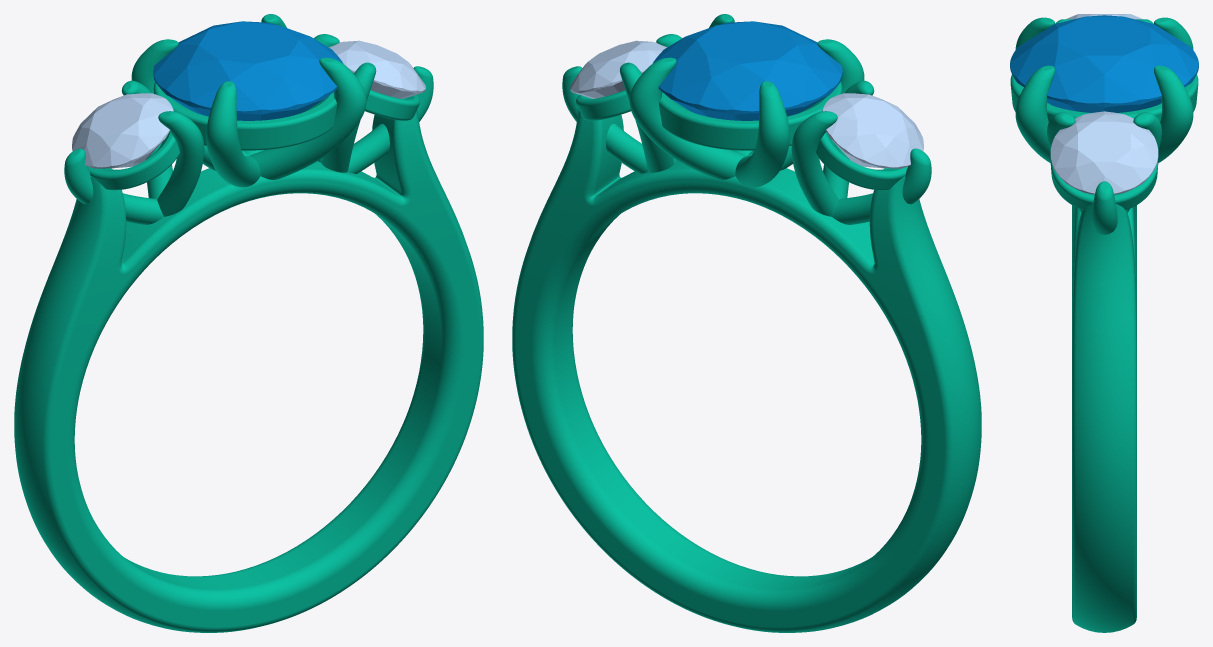
The picture shows the model from 3 angles, left to right: view 1: azimuth 30°, elevation 25°; view 2: azimuth 150°, elevation 25°; view 3: azimuth 270°, elevation 25°; orthographic projection.
Parts seen in each view (by area): view 1: VR489.3dm, Diamond_Round (×3), Bezel (×3); view 2: VR489.3dm, Diamond_Round (×3), Bezel (×3); view 3: VR489.3dm, Diamond_Round (×2), Bezel (×2).
Part boxes in pixels (box(x1,y1,x2,y2)): VR489.3dm: box(14, 14, 483, 632); Diamond_Round (×3): box(72, 21, 425, 168); Bezel (×3): box(88, 82, 419, 190); VR489.3dm: box(512, 14, 981, 632); Diamond_Round (×3): box(570, 21, 923, 168); Bezel (×3): box(576, 82, 907, 190); VR489.3dm: box(1015, 17, 1193, 632); Diamond_Round (×2): box(1010, 15, 1198, 194); Bezel (×2): box(1010, 74, 1198, 210).
Size of the model in its own units: 2.47 by 3.01 by 0.9001.
